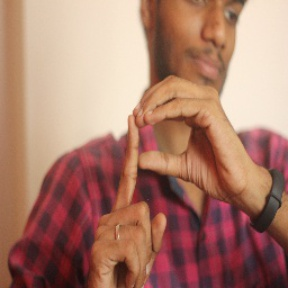P: (88, 69, 245, 281)
